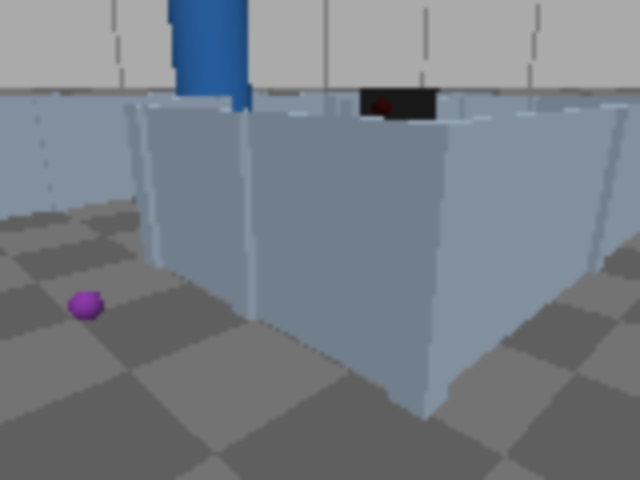puck: (65, 283, 108, 330)
